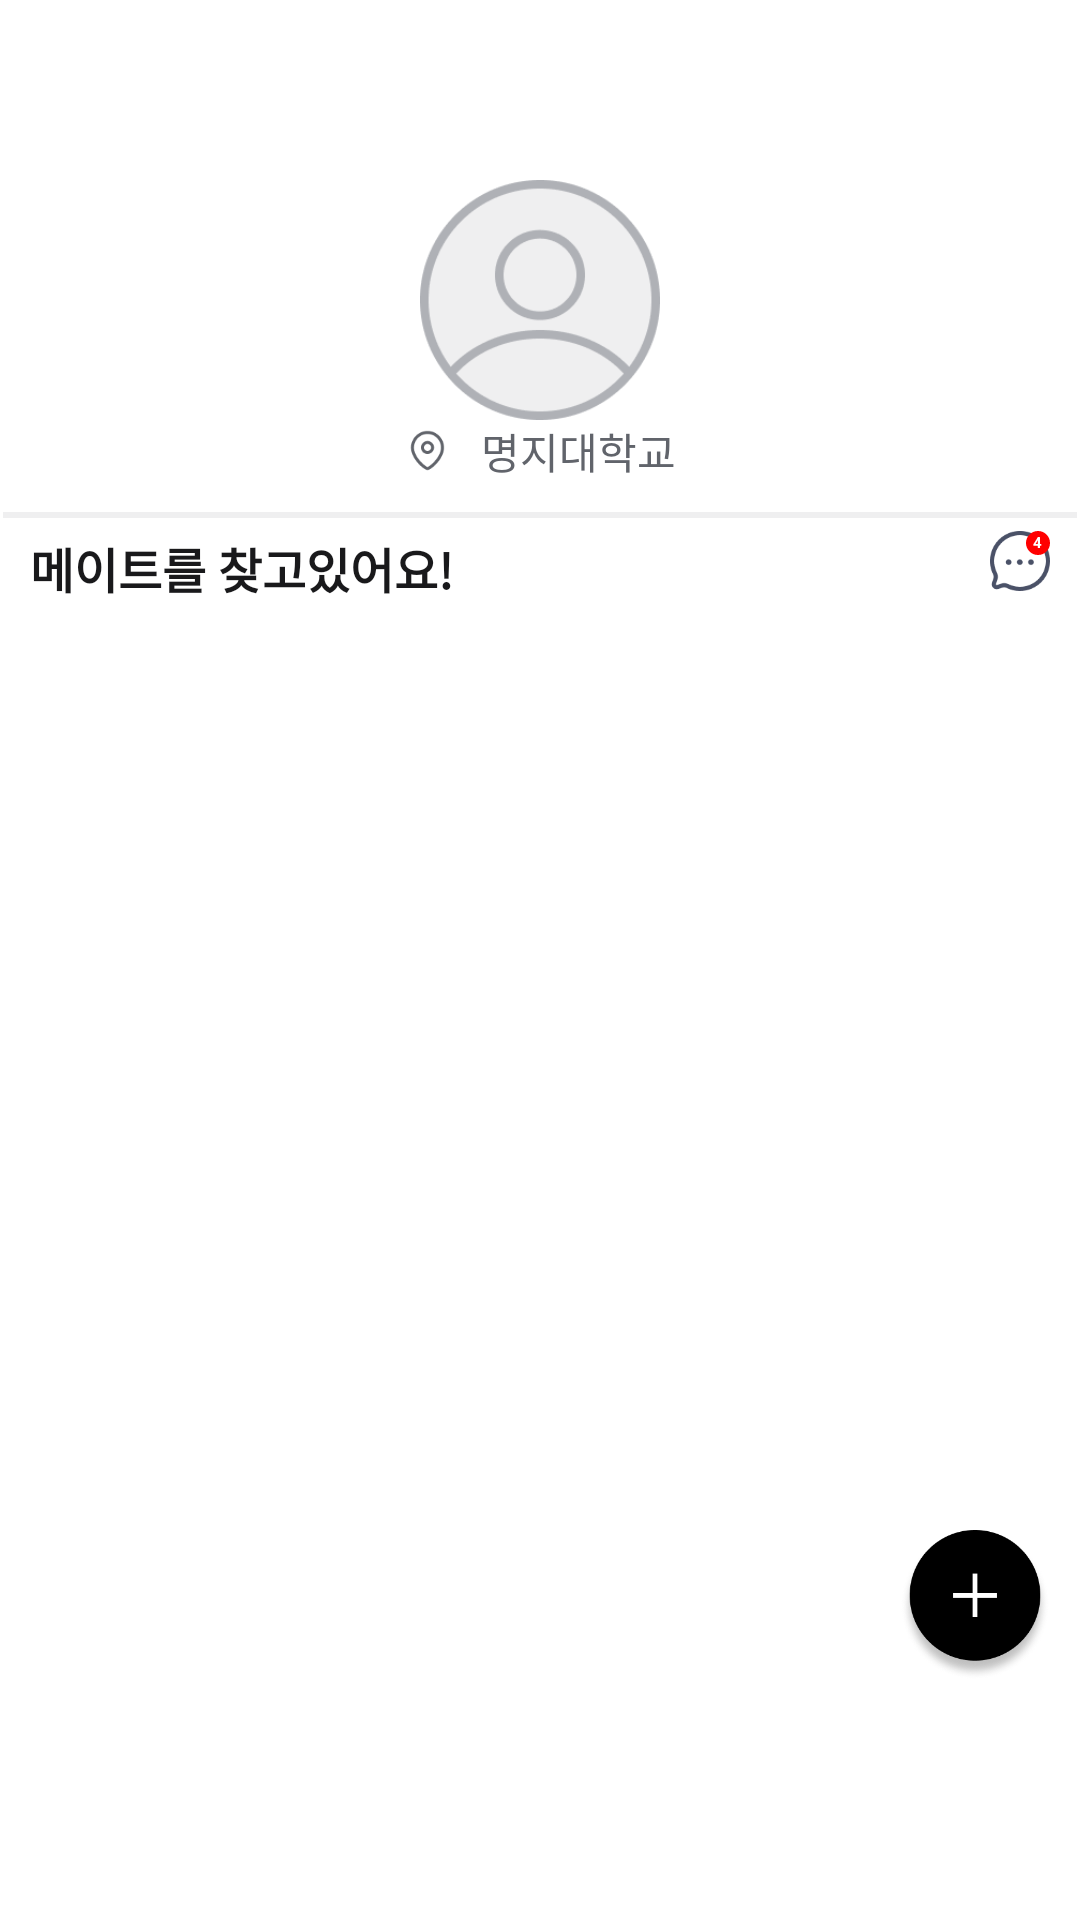

Icon click points for this 1080x1920 phone screenshot, format point (x, y):
chat: point (1020, 561)
location: point (427, 450)
plus: point (975, 1600)
